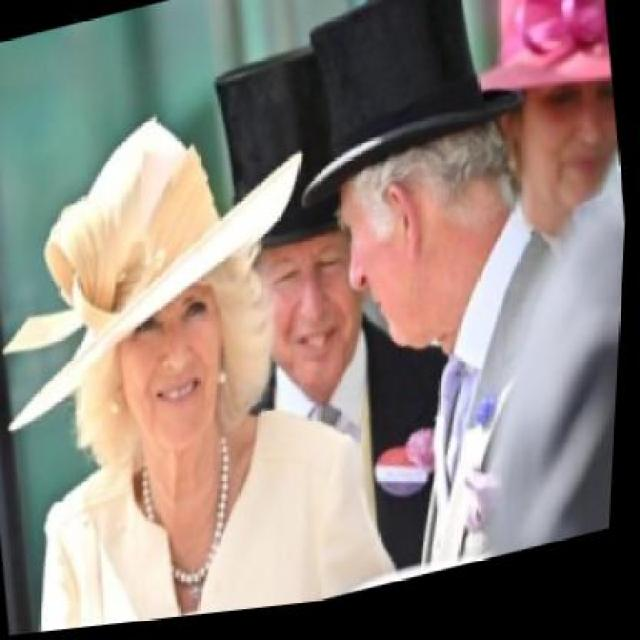hat: (0, 81, 337, 442), (271, 0, 540, 215), (198, 31, 377, 267)
